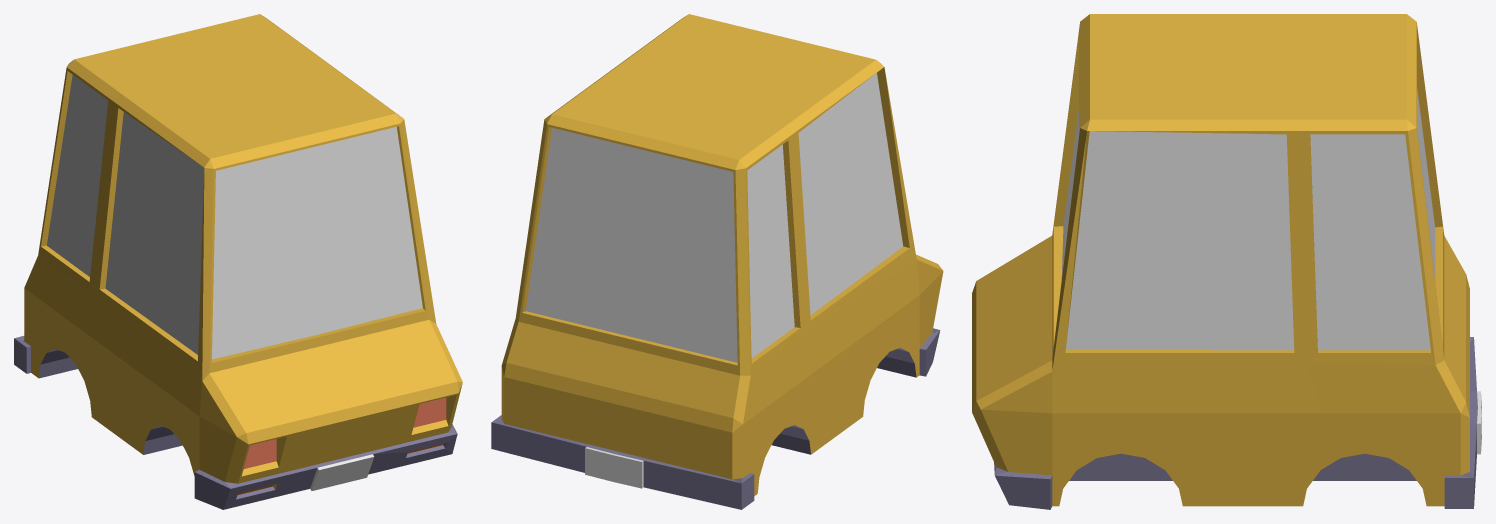
3 views of the same model, side by side, from view 1: azimuth 30°, elevation 25°; view 2: azimuth 150°, elevation 25°; view 3: azimuth 270°, elevation 25° (orthographic). The views are drawn at different scales.
Parts seen in each view (by area): view 1: Cube; view 2: Cube; view 3: Cube.
Boxes of the visible parts, box(x1,y1,x2,y2) form: Cube: box(14, 14, 462, 509); Cube: box(491, 14, 943, 509); Cube: box(972, 14, 1481, 509).
Size of the model in its own units: 855 by 1047 by 1291.
